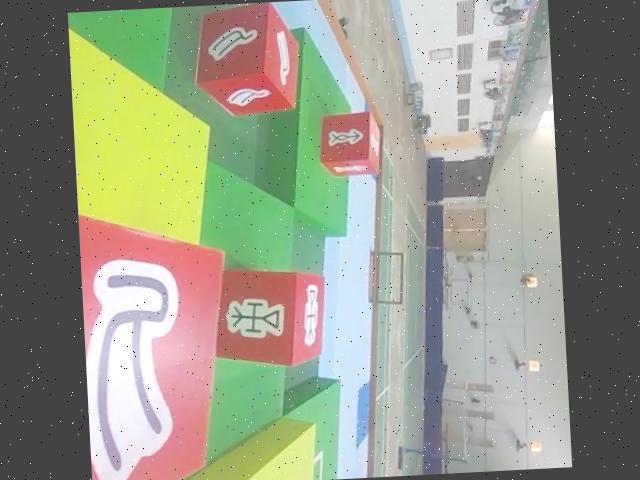R2 Fake: (77, 192, 238, 480)
R2 Real: (211, 260, 331, 372), (191, 1, 304, 116), (317, 111, 383, 181)
